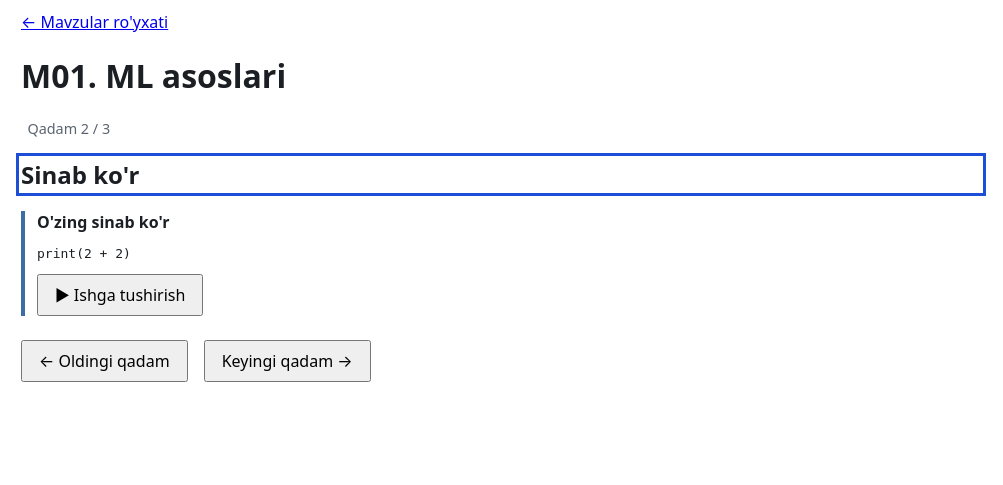
Test: ma'ruzalar (CNT-02) › qadamlar bo'yicha yurish, sinab ko'r bloki va tezkor savol
Earlier steps of the test are not shown.
Expected: the text "O'zing sinab ko'r" is shown, [37, 211, 170, 233]
Expected: the text "print(2 + 2)" is shown, [37, 246, 131, 261]
Click the button "Keyingi qadam →" at x=287, y=361, box [204, 340, 370, 382]
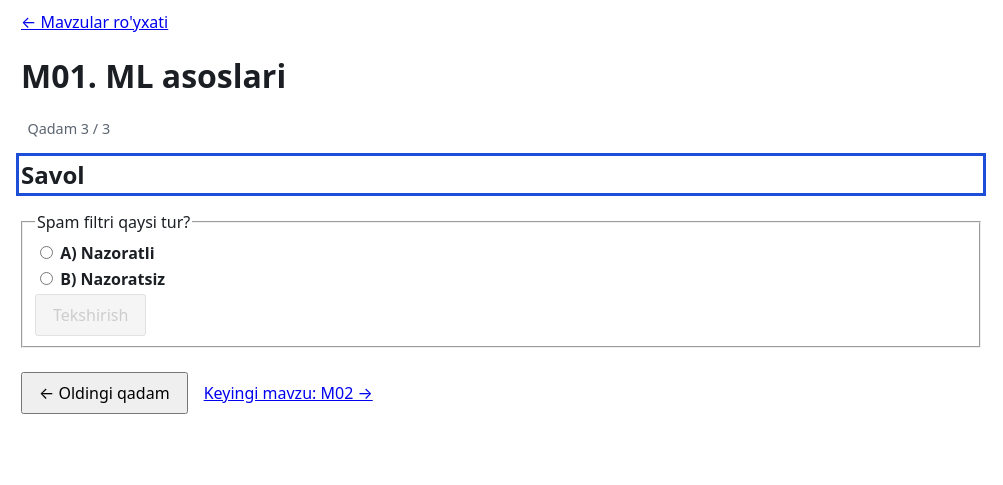
Expected: the button "Tekshirish" is disabled, [35, 294, 146, 336]
Click the radio button labelled "B) Nazoratsiz" at x=46, y=279, box [40, 272, 53, 285]
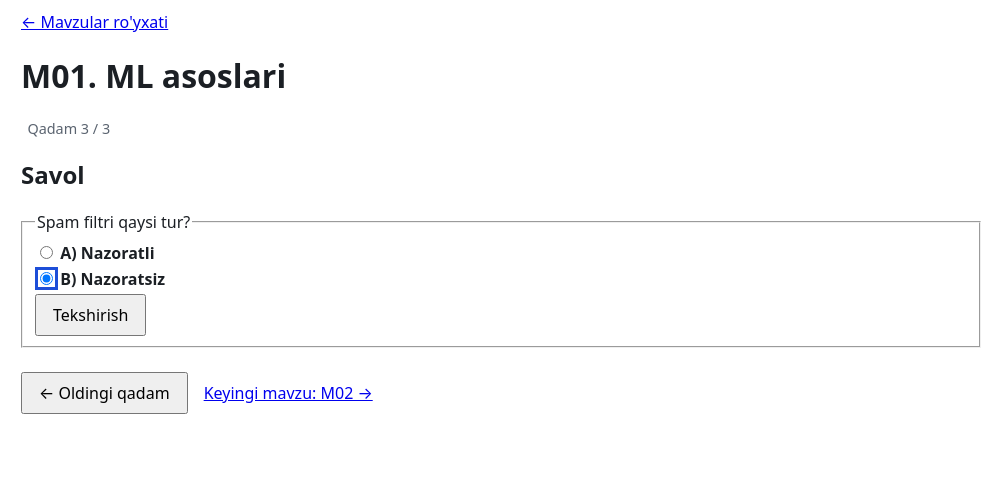
Click the button "Tekshirish" at x=91, y=315, box [35, 294, 146, 336]
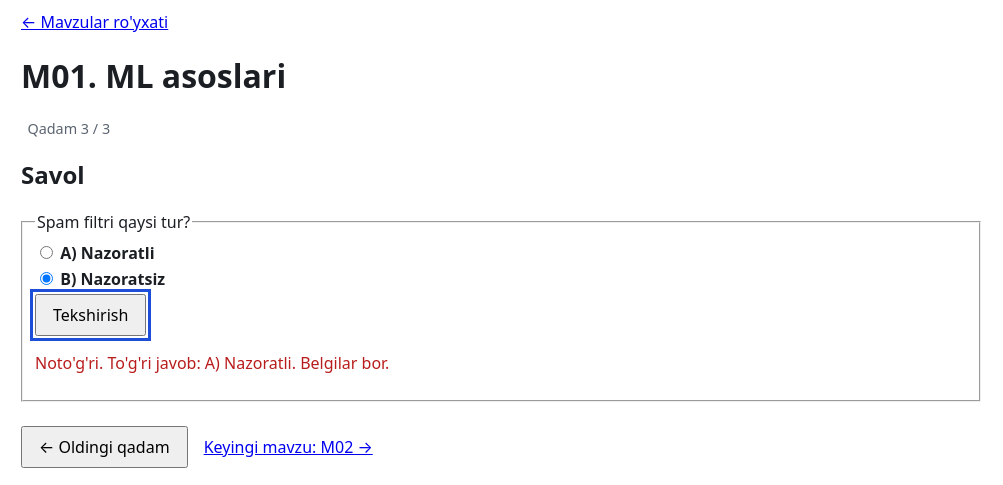
Expected: the message reads "Noto'g'ri. To'g'ri javob: A) Nazoratli. Belgilar bor.", [35, 352, 389, 374]
Click the radio button labelled "A) Nazoratli" at x=46, y=253, box [40, 246, 53, 259]
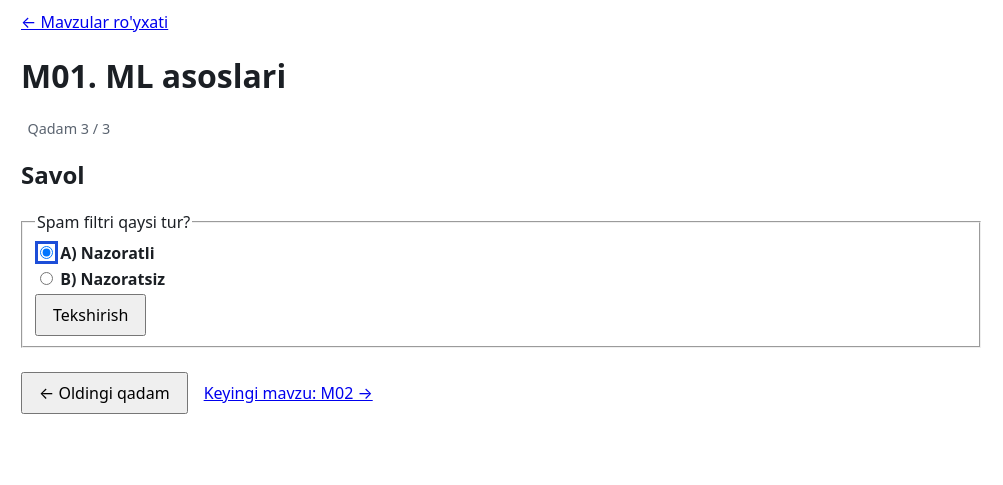
Expected: the message "Noto'g'ri. To'g'ri javob: A) Nazoratli. Belgilar bor." is gone
Click the button "Tekshirish" at x=91, y=315, box [35, 294, 146, 336]
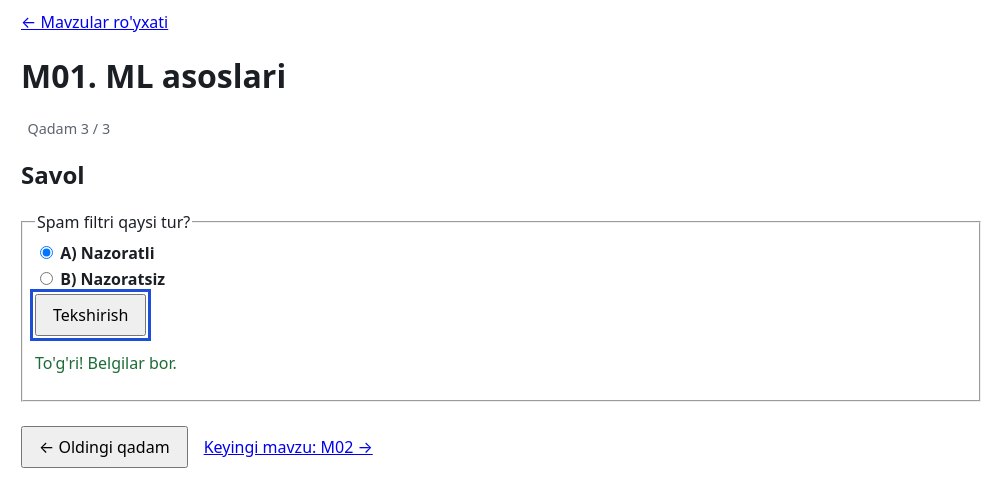
Expected: the message shows "To'g'ri!", [35, 352, 83, 374]
Click the button "← Oldingi qadam" at x=104, y=447, box [21, 426, 188, 468]
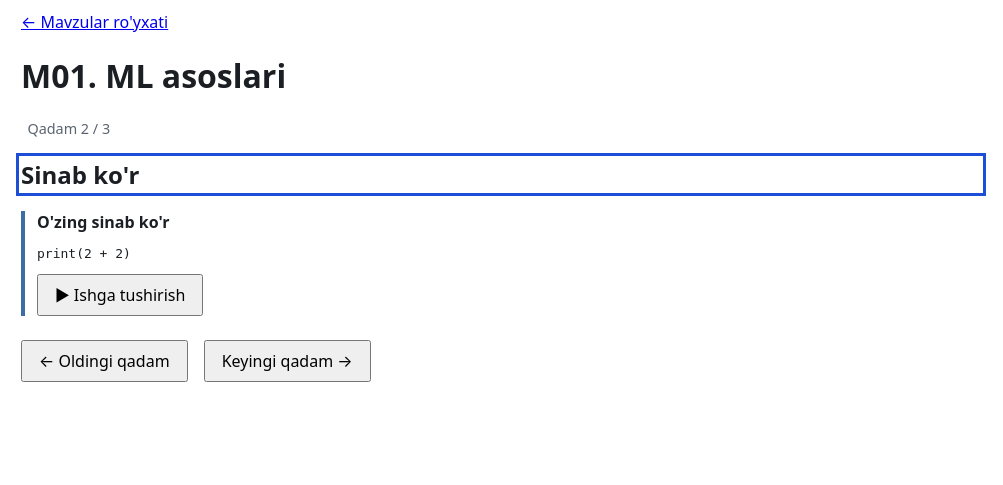
Expected: the heading "Sinab ko'r" is shown, [21, 158, 139, 191]
